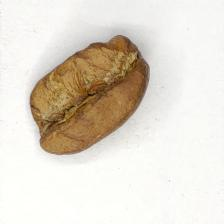NG: (33, 45, 131, 132)
